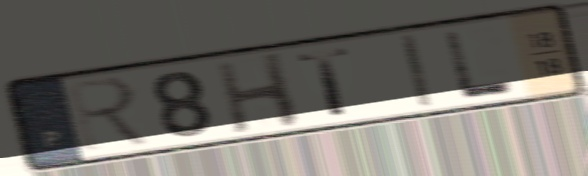8: (150, 69, 216, 139)
H: (211, 48, 306, 137)
I: (396, 30, 438, 112)
L: (439, 27, 520, 101)
R: (62, 73, 158, 154)
T: (293, 44, 355, 119)
